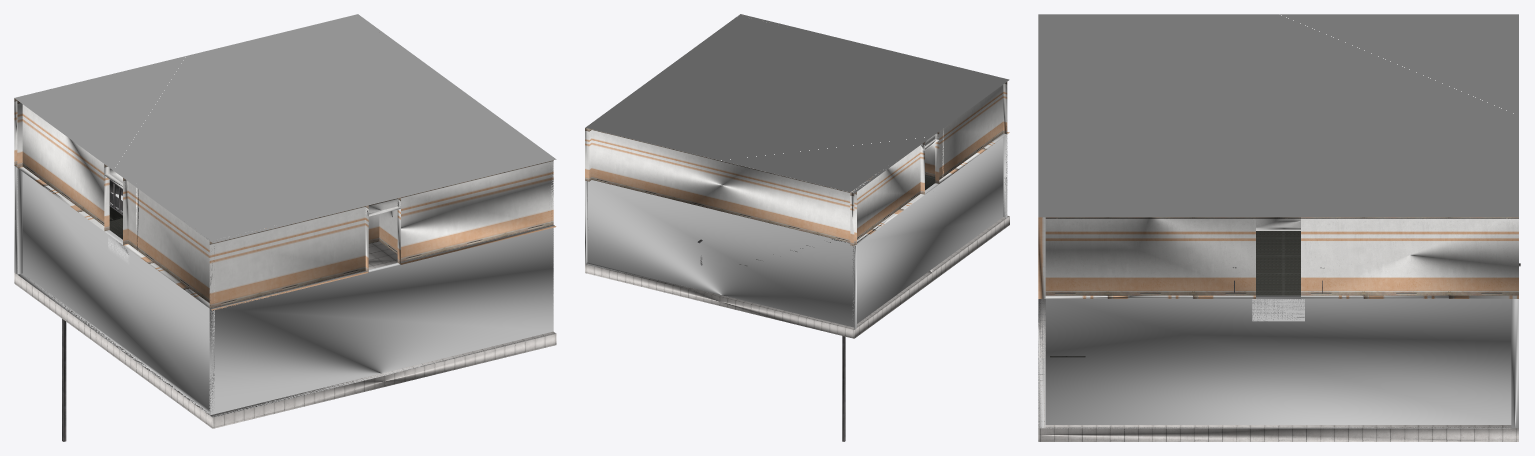
File: room3servers_opt.obj
The picture shows the model from 3 angles, left to right: view 1: azimuth 30°, elevation 25°; view 2: azimuth 150°, elevation 25°; view 3: azimuth 270°, elevation 25°; orthographic projection. The views are drawn at different scales.
Bounding box in the file's own units: 102 × 96.05 × 103.
